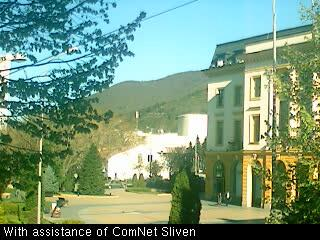person: (225, 190, 233, 208), (216, 192, 224, 208)
